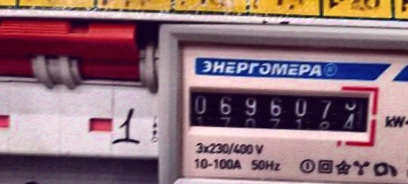0: (292, 95, 308, 118), (192, 94, 207, 115)
4: (342, 111, 356, 132)
6: (217, 94, 232, 115), (267, 96, 282, 117)
7: (317, 99, 333, 120)
9: (242, 95, 256, 117)
screen: (174, 76, 383, 144)
